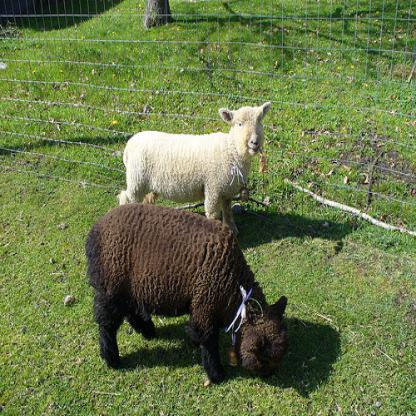sheep: (86, 203, 287, 385), (118, 101, 270, 237)
